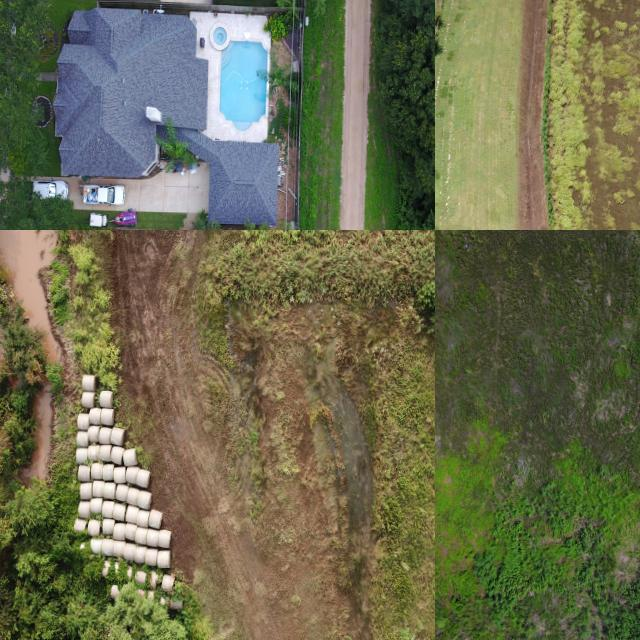fire: (0, 230, 60, 359), (22, 386, 51, 478)
